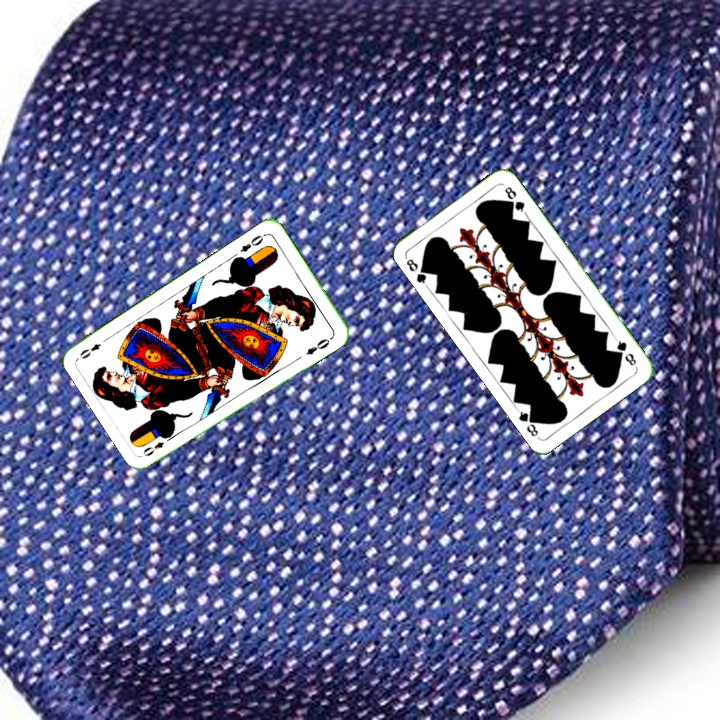EO: (236, 230, 269, 255), (139, 438, 167, 459)
G8: (401, 253, 432, 289), (611, 334, 639, 369)
